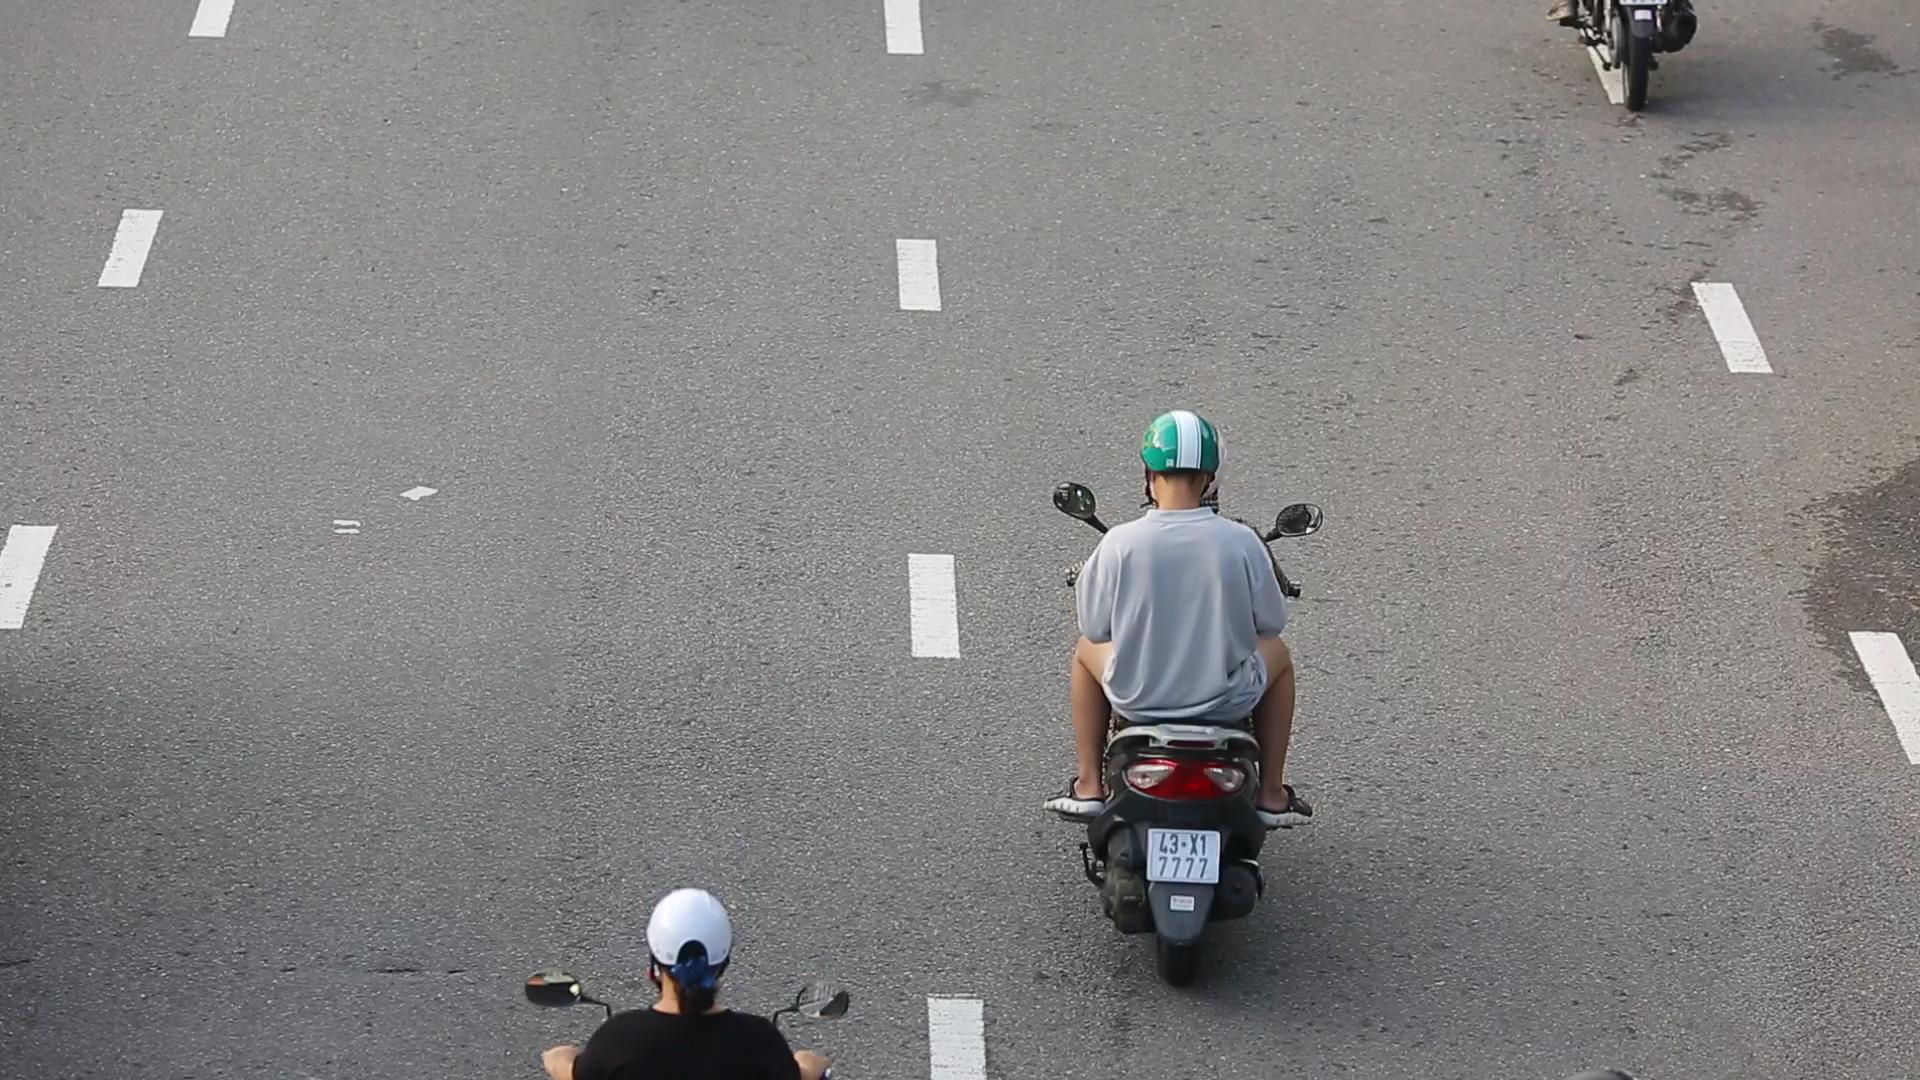motobike: (1059, 397, 1317, 988)
